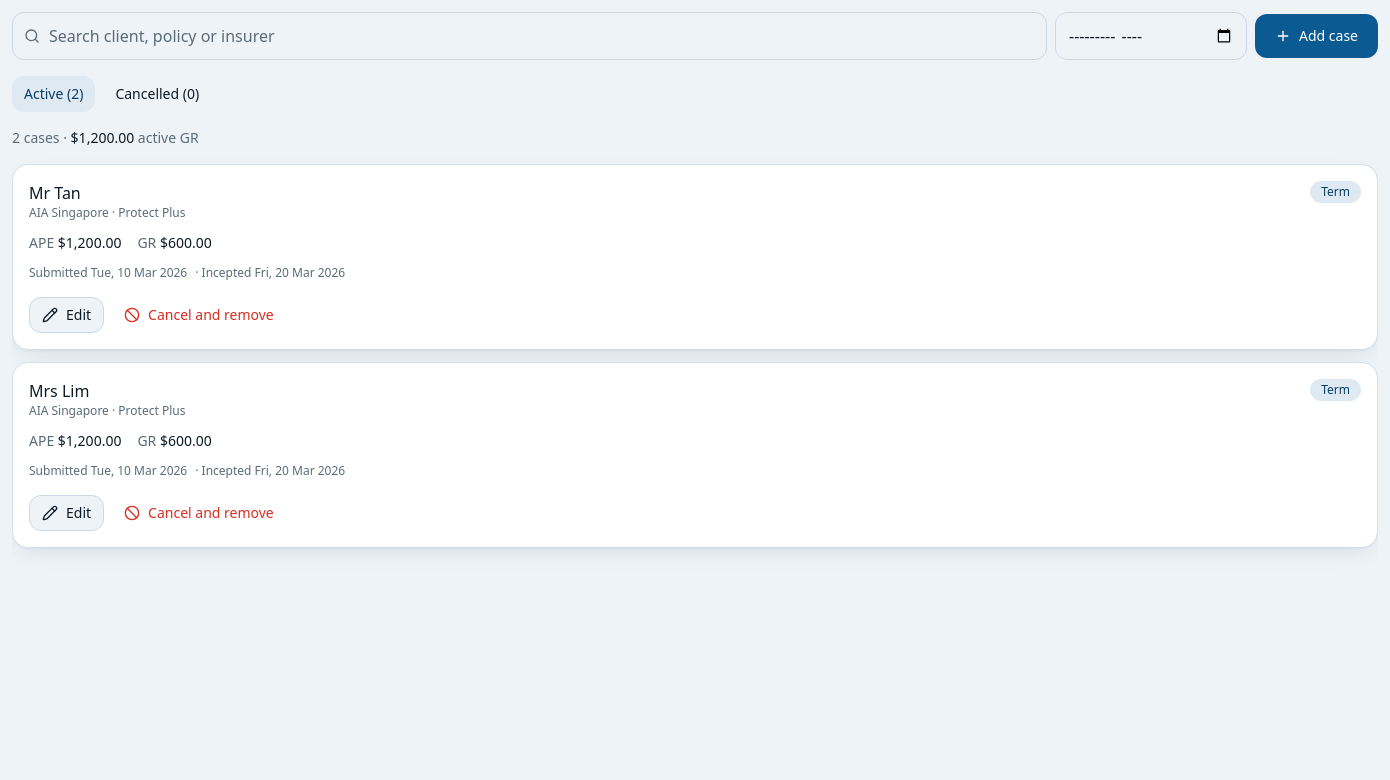
Test: case list › filters by client name
In the field named "Search cases": [530, 36] box [12,12,1047,60], type "Lim"
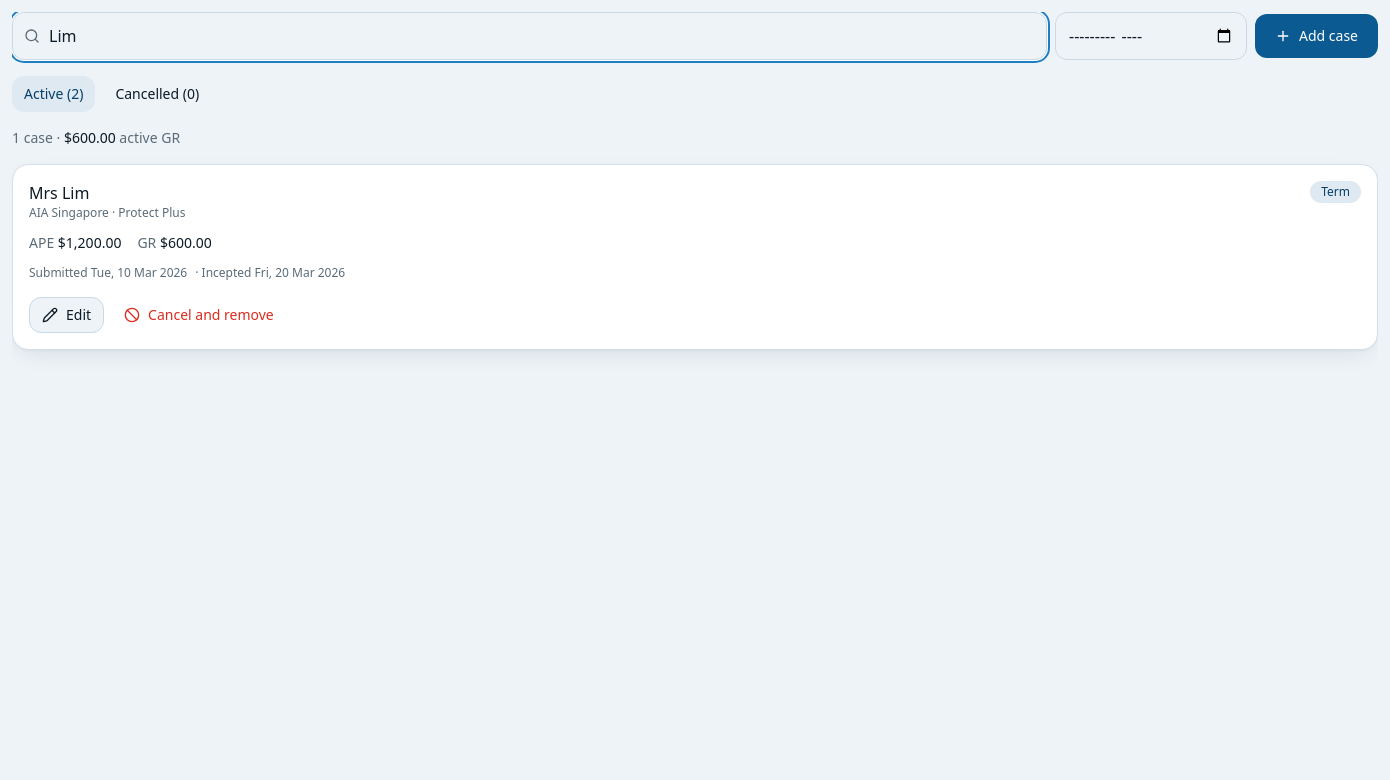
Expected: the text "Mrs Lim" is shown, [29,182,89,204]
Result: the text "Mr Tan" is gone
